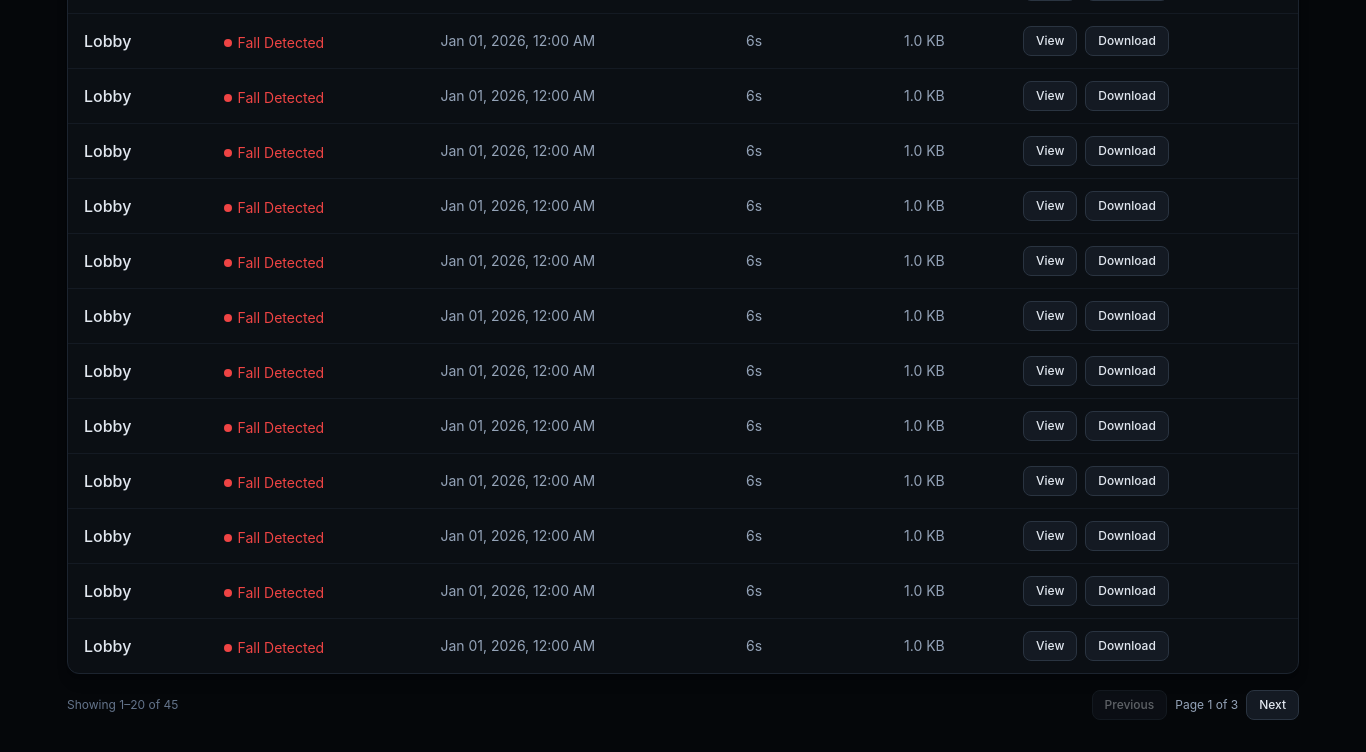
Recordings page paging › fetches the next page from the server rather than slicing what it has
(page scrolled)
Expected: the text "Page 1 of 3" is shown, [1175,697,1238,713]
Click the button "Next".
click(1273, 705)  # box [1246,690,1299,720]
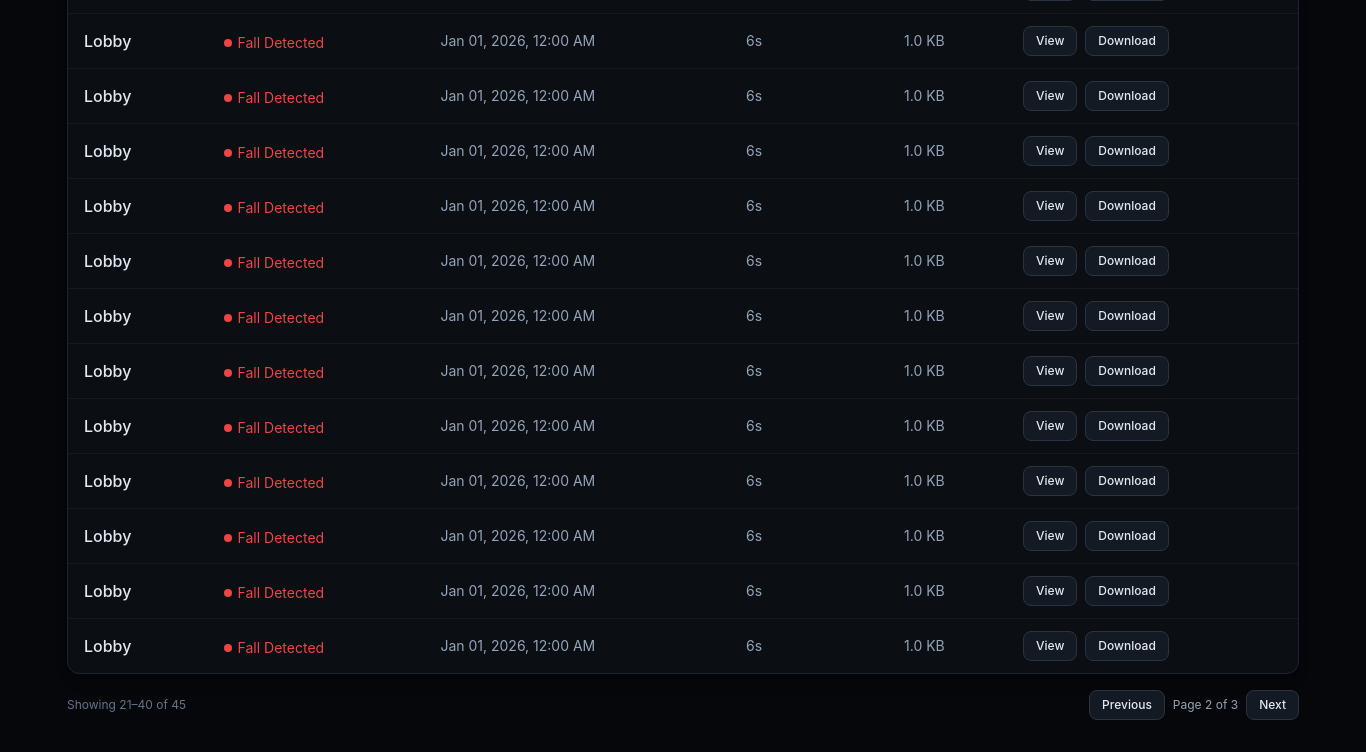
Expected: the text "Page 2 of 3" is shown, [1173,697,1238,713]
Expected: the text "Showing 21–40 of 45" is shown, [67,697,186,713]
